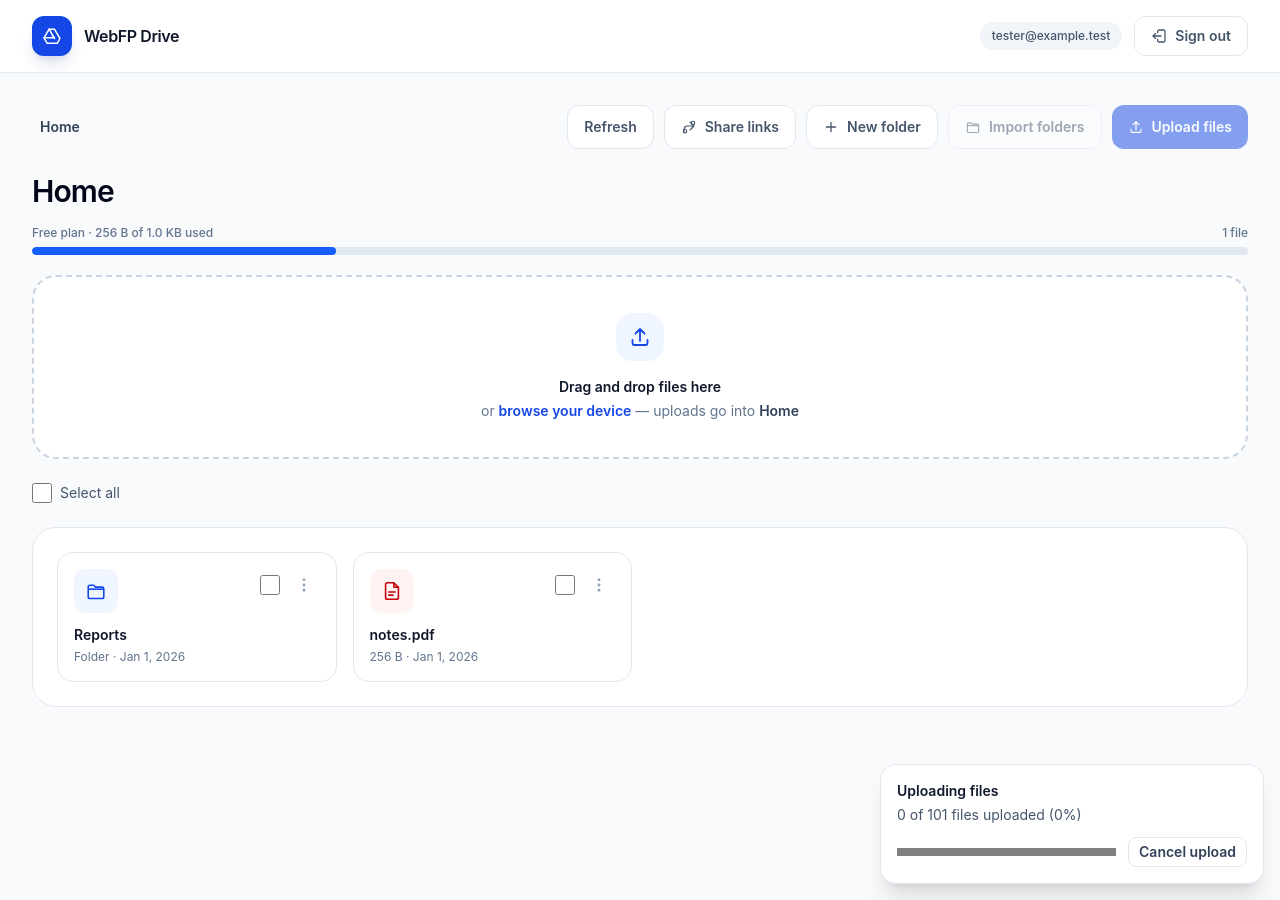
it: drive actions › cancels the active request and leaves later batches unsent
The image size is (1280, 900).
Earlier steps of the test are not shown.
expect the checkbox labelled "Select all" is shown: met, box [32,483,52,503]
Click the button "Cancel upload" at (1188,852), box [1128,837,1247,867]
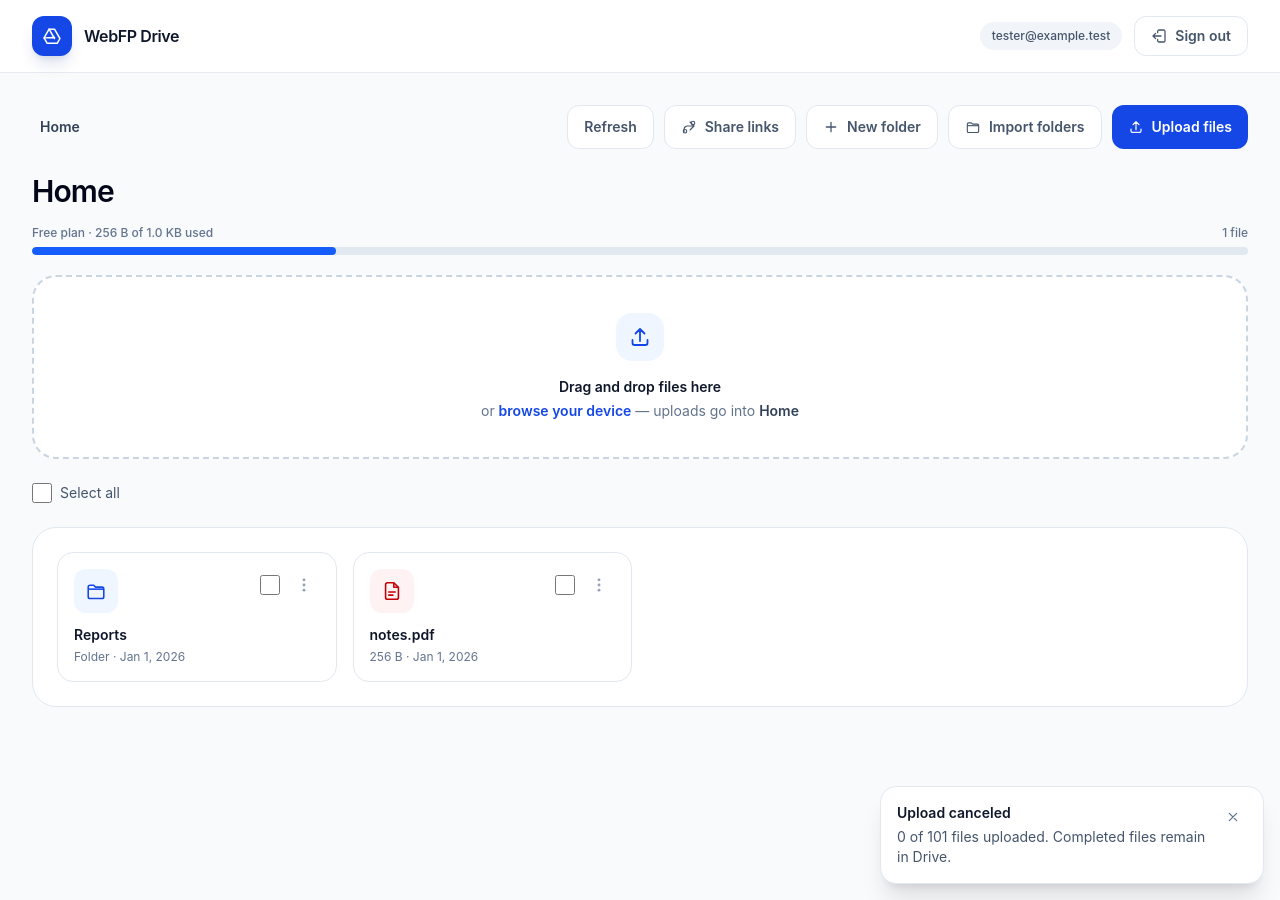
expect the text "Upload canceled" is shown: met, box [897,804,1011,821]
